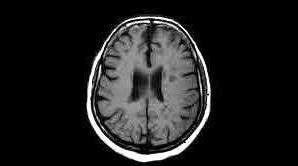Normal_Brain: (73, 1, 226, 166)
